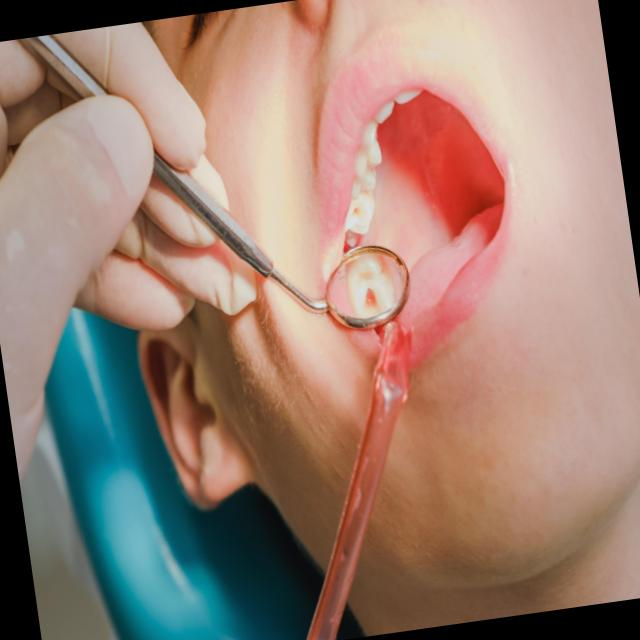Cavity: (352, 208, 360, 215)
Tooth: (346, 191, 375, 230), (356, 139, 382, 178), (352, 167, 376, 199)
